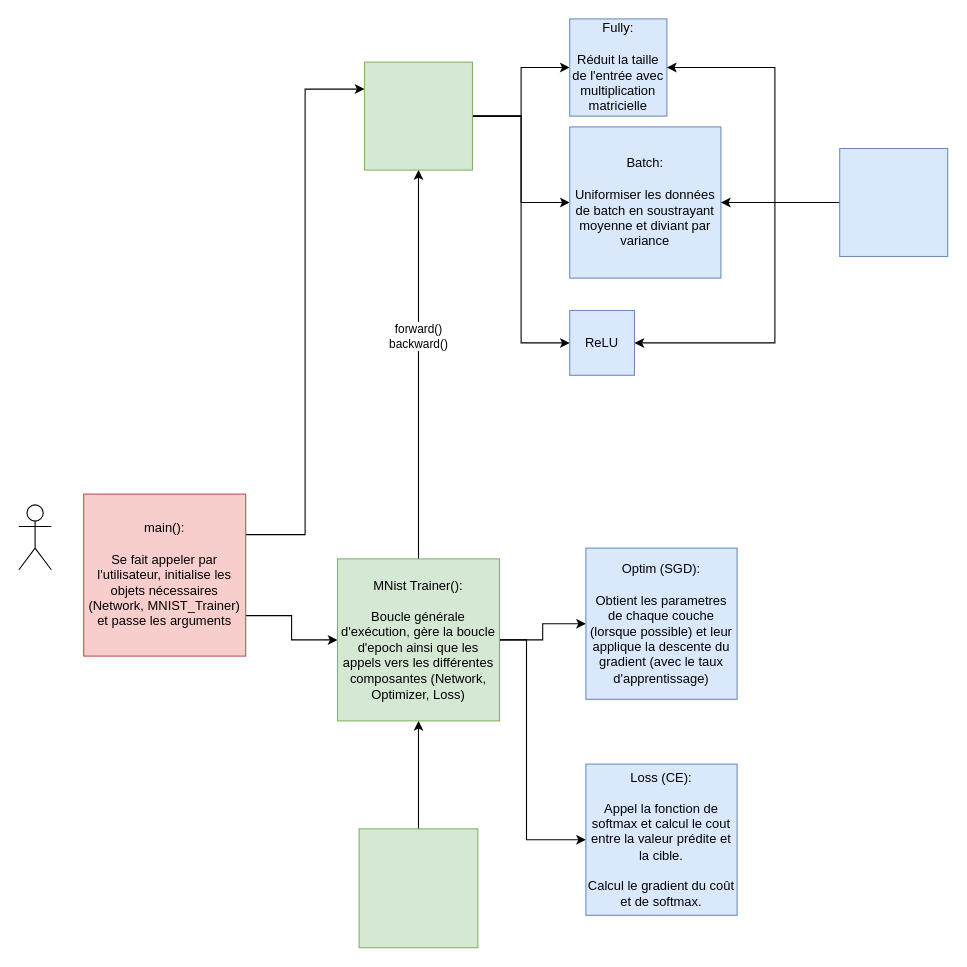
Image size: 967x967. Some labels were removed from this diagram. The shapes that lost their labels are listed below. From the top down, each one's box as (x1, y1, x2, y2) in pixels, then its label:
(363, 61, 473, 170): Network(): Gère les couches du réseau de neurone et leurs appels
(839, 147, 948, 256): Layer(): Classe de base des couches
(18, 504, 51, 570): Actor
(358, 828, 478, 948): Trainer(): Classe de base implémentée par MNIST_Trainer().
